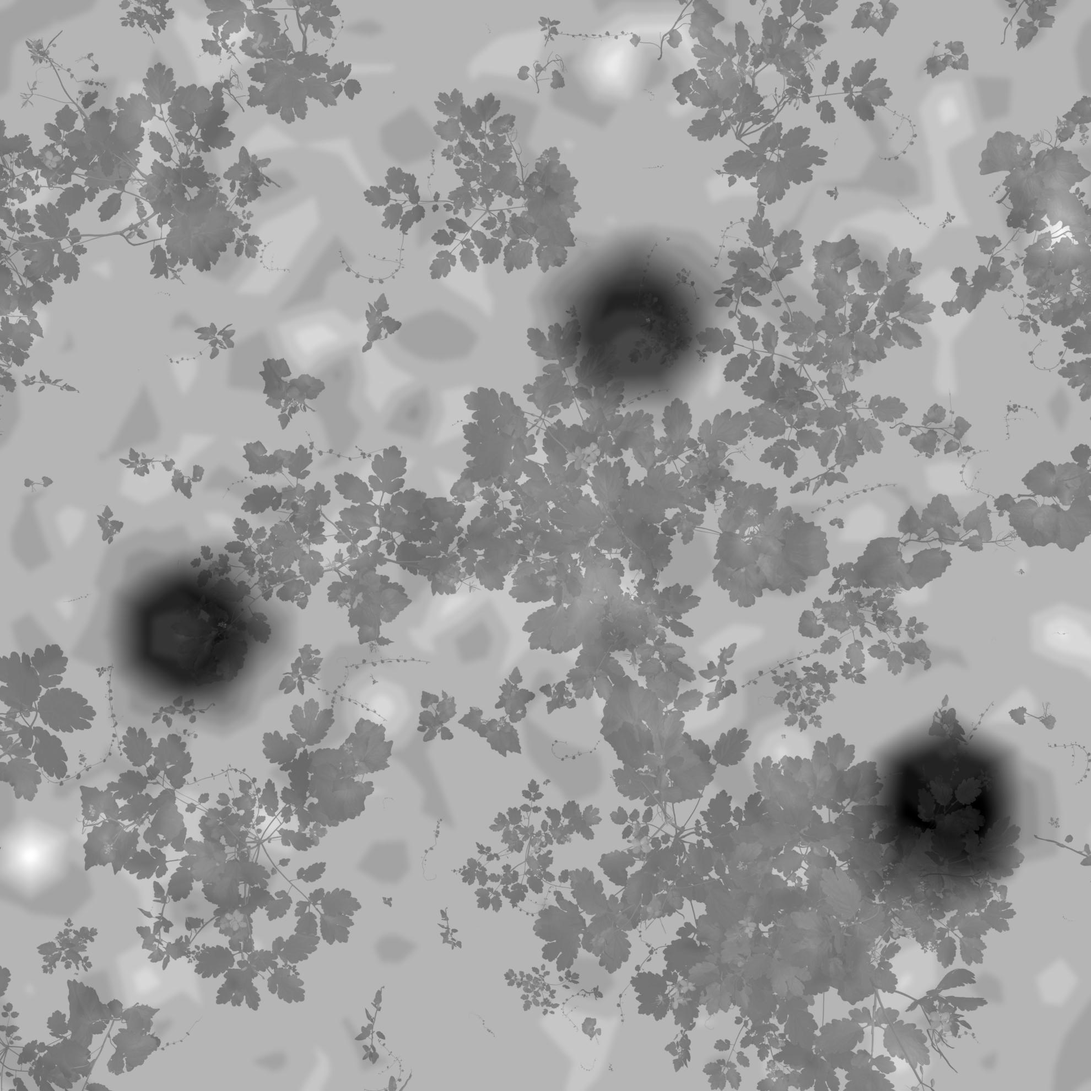landmine: (868, 729, 1031, 885), (113, 548, 275, 698), (560, 257, 696, 390)
